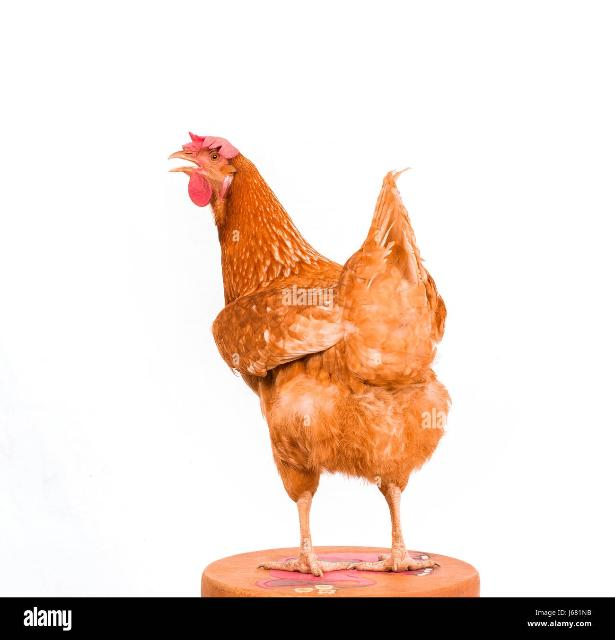Chicken: (166, 130, 448, 577)
